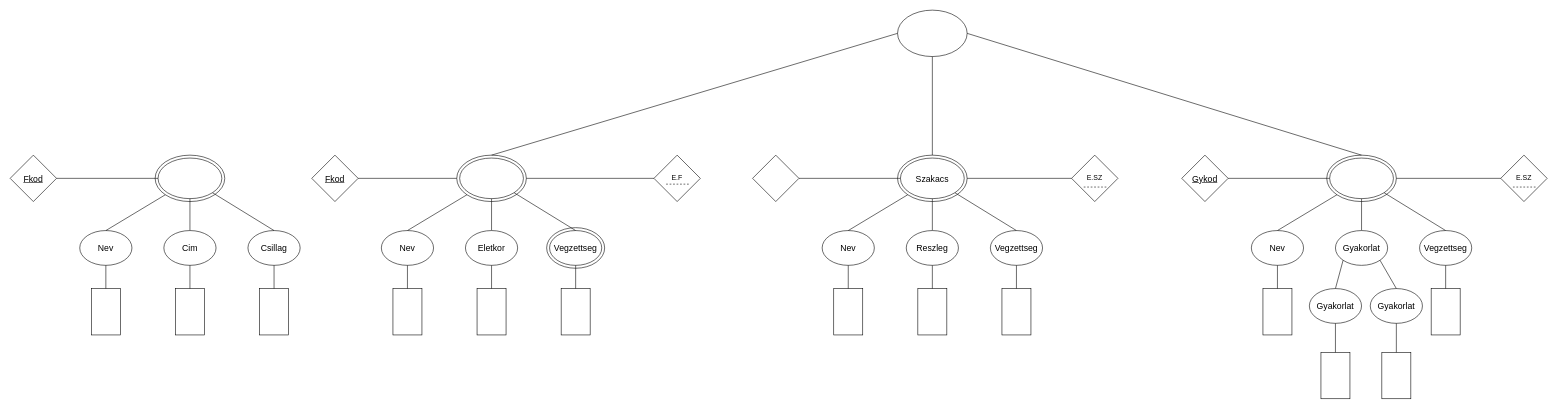
Image size: 1557x409. Some labels were removed from this diagram. Each missing label, with the centre of its shape:
"Foszakacs" belongs at [491,178].
"Gyakornok" belongs at [1361,178].
"Szkod" belongs at [775,178].
"Vendéglátás" belongs at [932,33].
"Étterem" belongs at [189,178].
